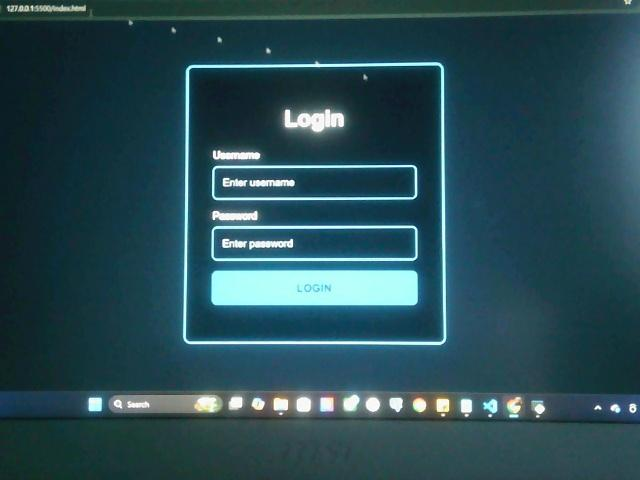login_button: (210, 269, 418, 306)
login_form: (185, 63, 446, 346)
password_input: (211, 225, 420, 264)
title_text: (283, 107, 348, 134)
username_input: (212, 164, 418, 201)
